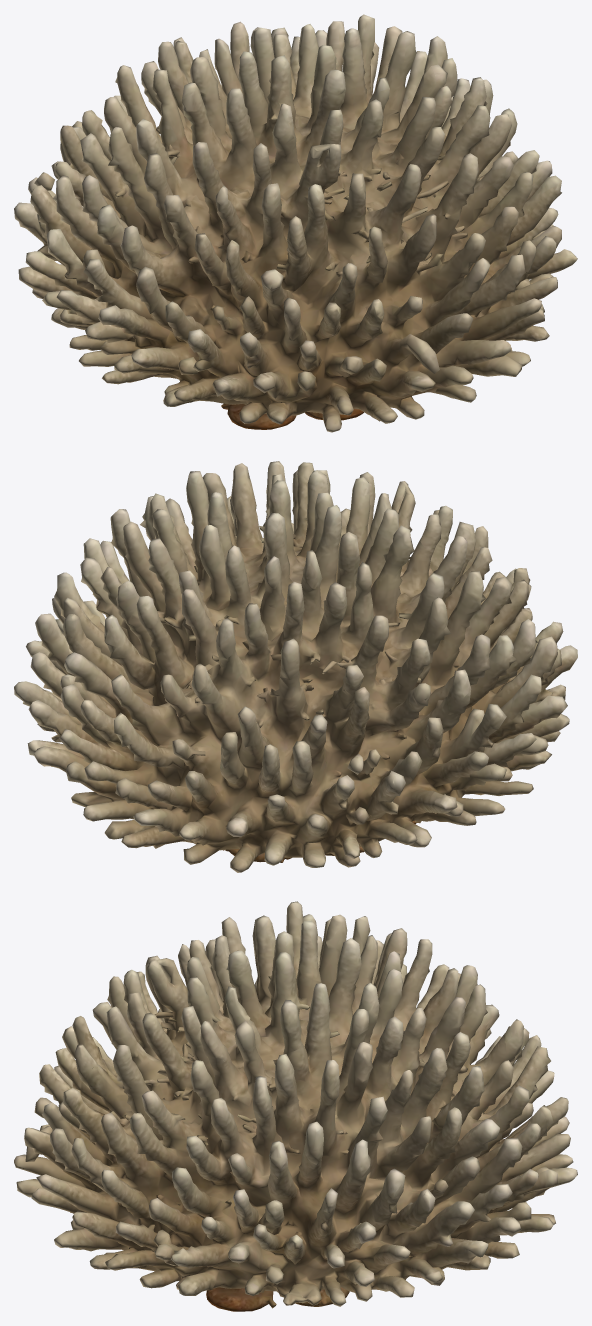
File: coral_finger.glb
3 renders of one model, top to bottom at view 1: azimuth 30°, elevation 25°; view 2: azimuth 150°, elevation 25°; view 3: azimuth 270°, elevation 25°, orthographic. The views are drawn at different scales.
Parts seen in each view (by area): view 1: tripo_node_e844f790-cc34-4920-ba73-e093d8584d40; view 2: tripo_node_e844f790-cc34-4920-ba73-e093d8584d40; view 3: tripo_node_e844f790-cc34-4920-ba73-e093d8584d40.
Part boxes in pixels (x1=…): tripo_node_e844f790-cc34-4920-ba73-e093d8584d40: x1=14, y1=14, x2=577, y2=432; tripo_node_e844f790-cc34-4920-ba73-e093d8584d40: x1=14, y1=461, x2=577, y2=872; tripo_node_e844f790-cc34-4920-ba73-e093d8584d40: x1=14, y1=901, x2=577, y2=1311.
Bounding box in the file's own units: 0.971 × 0.6396 × 1.
1 material, 1 textured.
